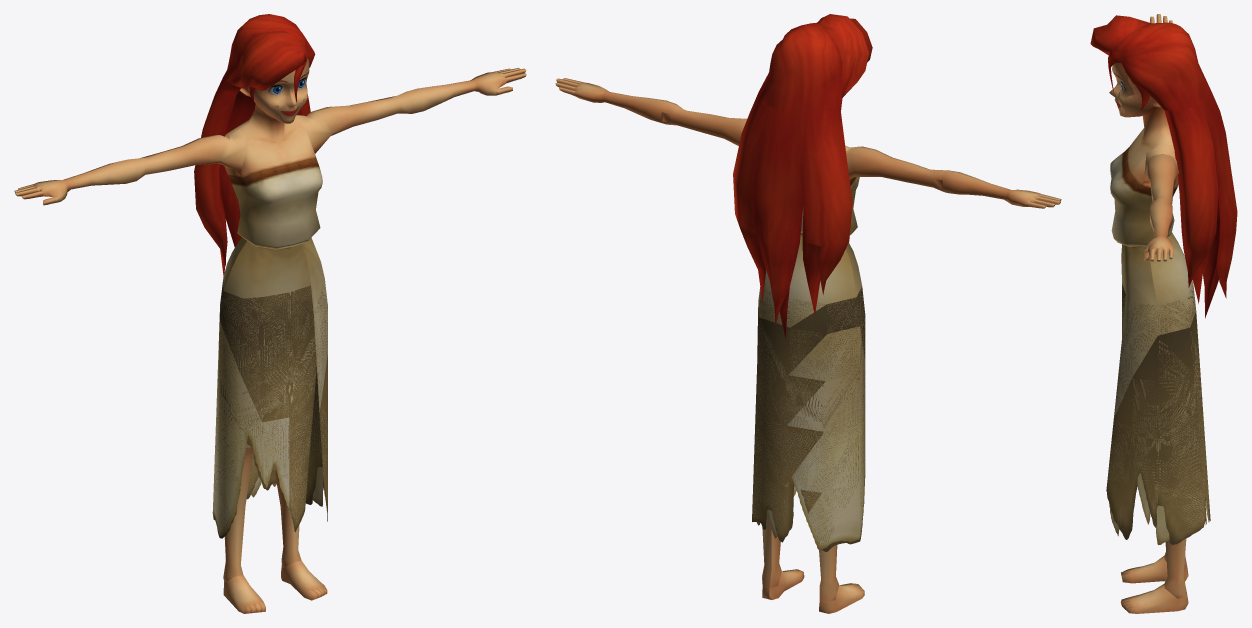
File: ArielRD.obj
3 renders of one model, left to right at view 1: azimuth 30°, elevation 25°; view 2: azimuth 150°, elevation 25°; view 3: azimuth 270°, elevation 25°, orthographic.
Parts seen in each view (by area): view 1: rdmobj01, rdmobj00, rdmobj02; view 2: rdmobj00, rdmobj01; view 3: rdmobj01, rdmobj00, rdmobj02.
Part boxes in pixels (box(x1,y1,x2,y2)): rdmobj01: box(212, 158, 327, 538); rdmobj00: box(14, 14, 526, 613); rdmobj02: box(239, 56, 309, 123); rdmobj00: box(555, 14, 1061, 613); rdmobj01: box(752, 177, 865, 551); rdmobj01: box(1106, 147, 1210, 544); rdmobj00: box(1090, 14, 1237, 613); rdmobj02: box(1109, 62, 1161, 117).
Bounding box in the file's own units: 173 × 187 × 43.7.
Materials: 3 (3 with a texture image).
